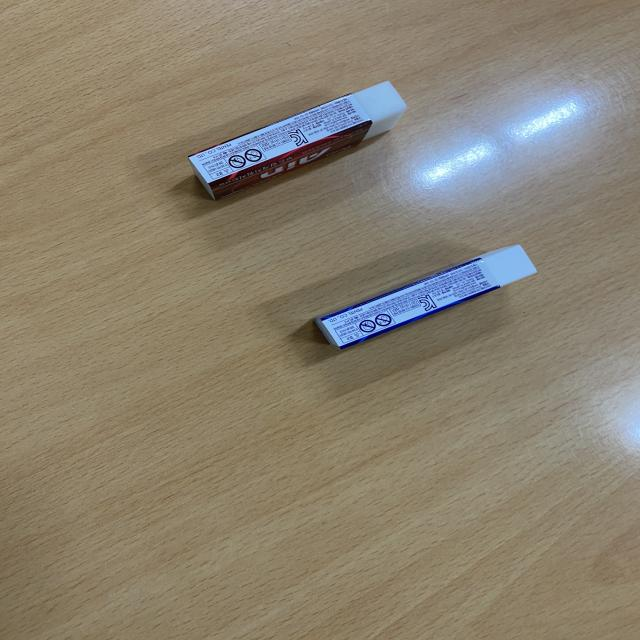blue: (310, 238, 540, 352)
red: (186, 76, 408, 203)
